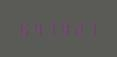four: (30, 20, 42, 37)
nine: (57, 20, 69, 36)
seven: (44, 20, 56, 37), (83, 19, 95, 36)
six: (17, 20, 29, 37)
two: (70, 19, 82, 36)
